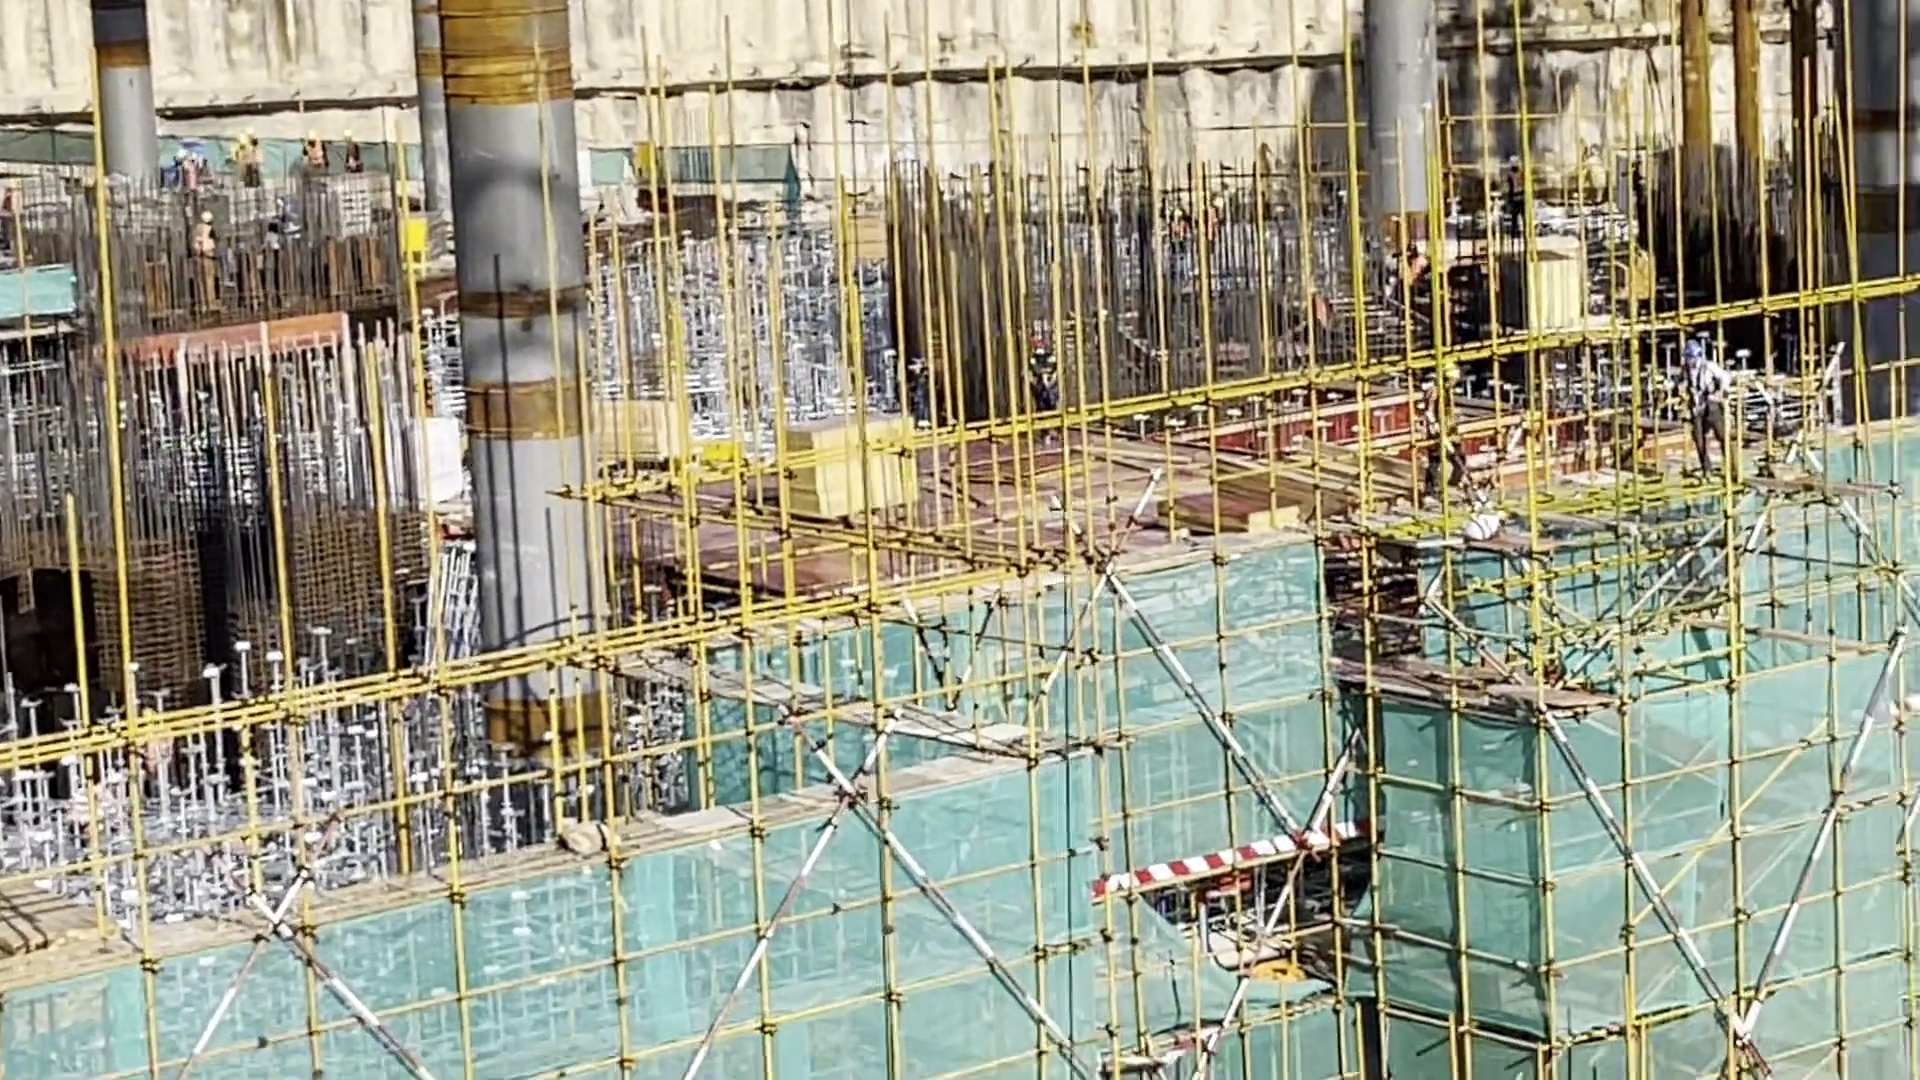helmet: (1438, 354, 1470, 390), (1673, 335, 1707, 358), (197, 206, 215, 224), (303, 130, 321, 147), (342, 130, 359, 146)
person: (1675, 335, 1742, 483), (1418, 356, 1481, 503), (341, 119, 375, 181), (190, 210, 218, 256), (301, 127, 323, 178)
vest: (1683, 367, 1722, 414), (1427, 388, 1458, 442)
